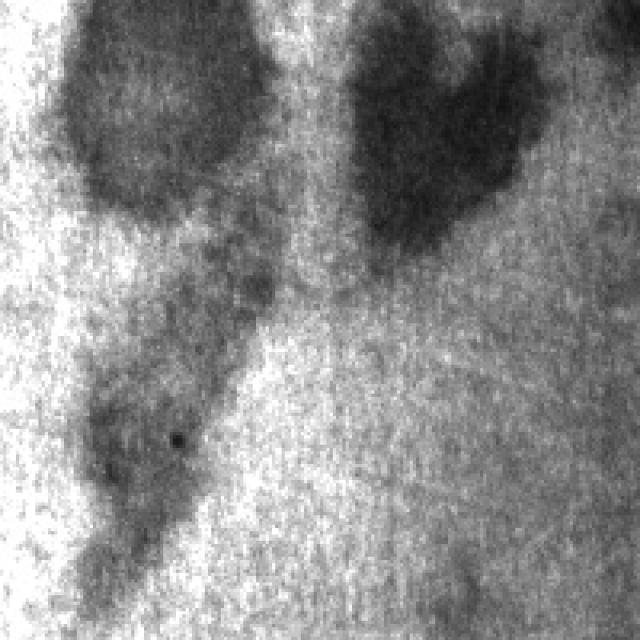patches: (74, 269, 278, 611), (349, 0, 560, 250), (61, 0, 272, 221)
